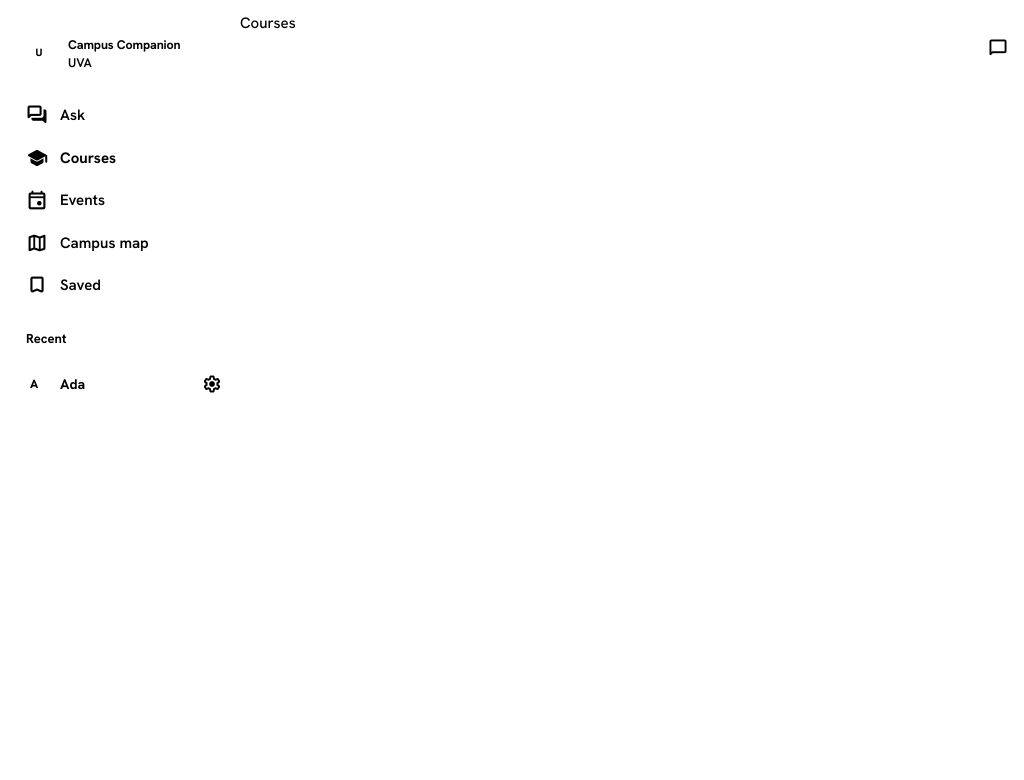
Test: chat dock by width (D17) › 701px opens the dock as a drawer
Click the button named "Open Ask" at (998, 48), box 976,26 -> 1020,70
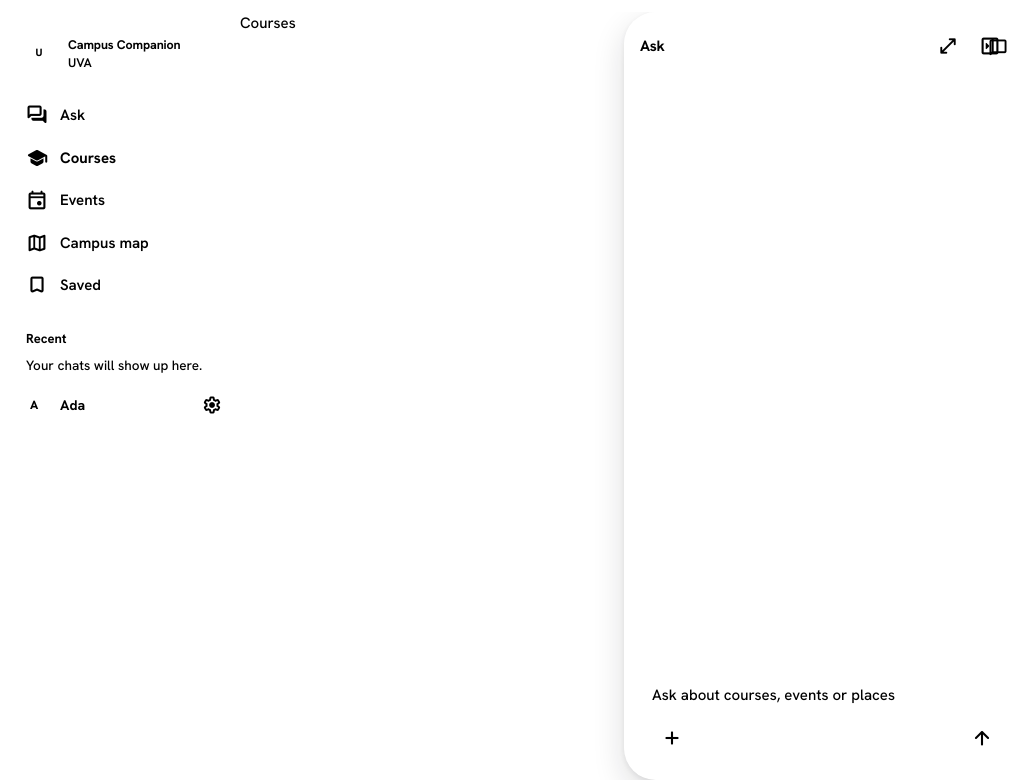
Expected: the text "Your chats will show up here." is shown, 26,356 -> 202,374
